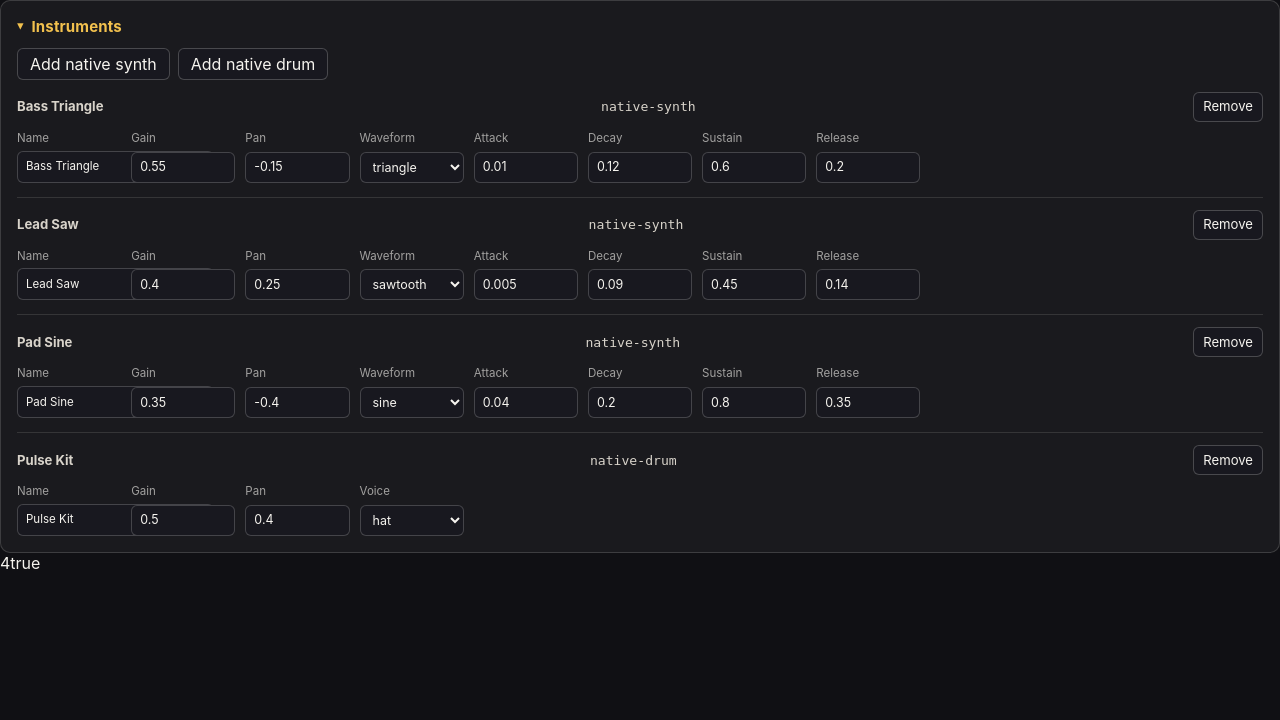
it: InstrumentPanel add and remove › refuses to remove an Instrument a Part still plays through, and names the Parts
This screenshot has width=1280, height=720.
Click the button "Remove" in the row of "Bass Triangle". click: (1228, 107)
box: [1193,92,1263,122]
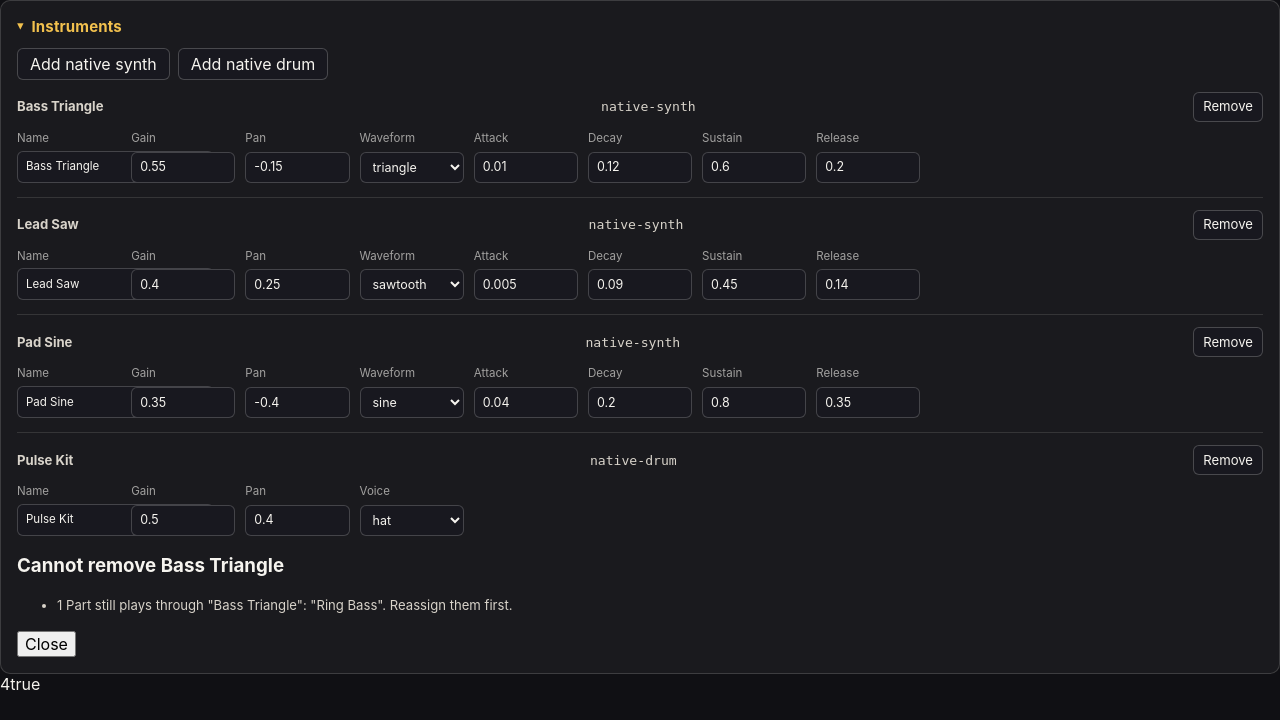
Expected: the dialog named "Confirm Instrument removal" shows "Ring Bass", [57,597,512,613]
